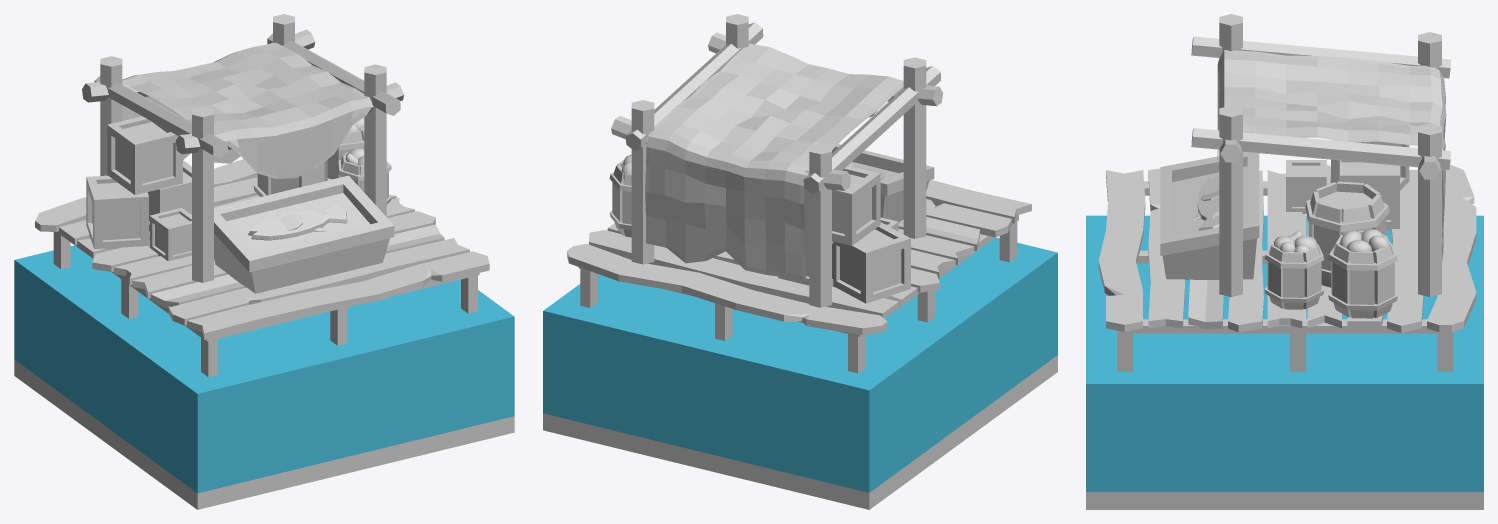
The model's file is PortShop1.fbx.
The picture shows the model from 3 angles, left to right: view 1: azimuth 30°, elevation 25°; view 2: azimuth 150°, elevation 25°; view 3: azimuth 270°, elevation 25°; orthographic projection. The views are drawn at different scales.
Visible parts, largest first — view 1: PortShop1; view 2: PortShop1; view 3: PortShop1.
Part boxes in pixels (x1,y1,x2,y2): PortShop1: (14, 14, 514, 509); PortShop1: (543, 14, 1057, 509); PortShop1: (1086, 14, 1483, 509).
Bounding box in the file's own units: 2 × 2 × 2.
